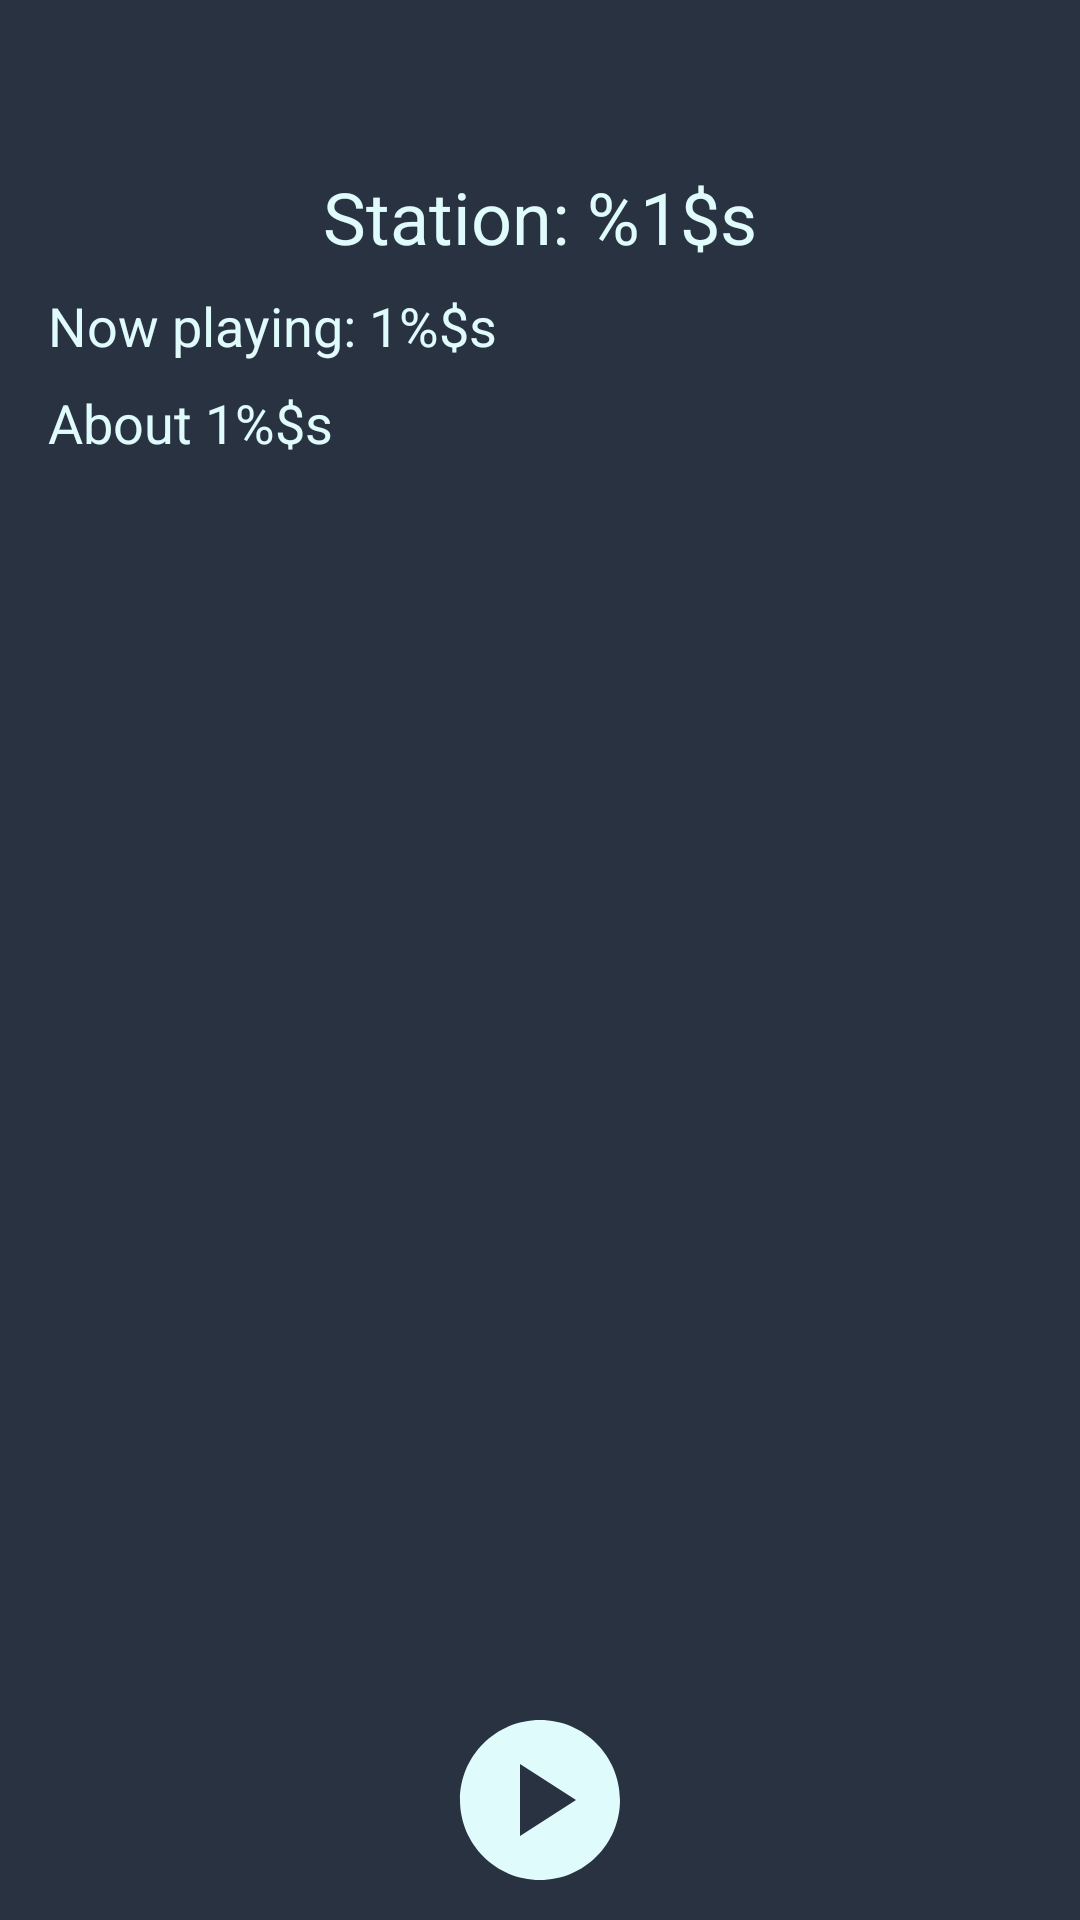

Where icons sit on this 1080 x 1920 app screen, as detection(x1, y1, x2, y2):
play: detection(460, 1720, 620, 1880)
